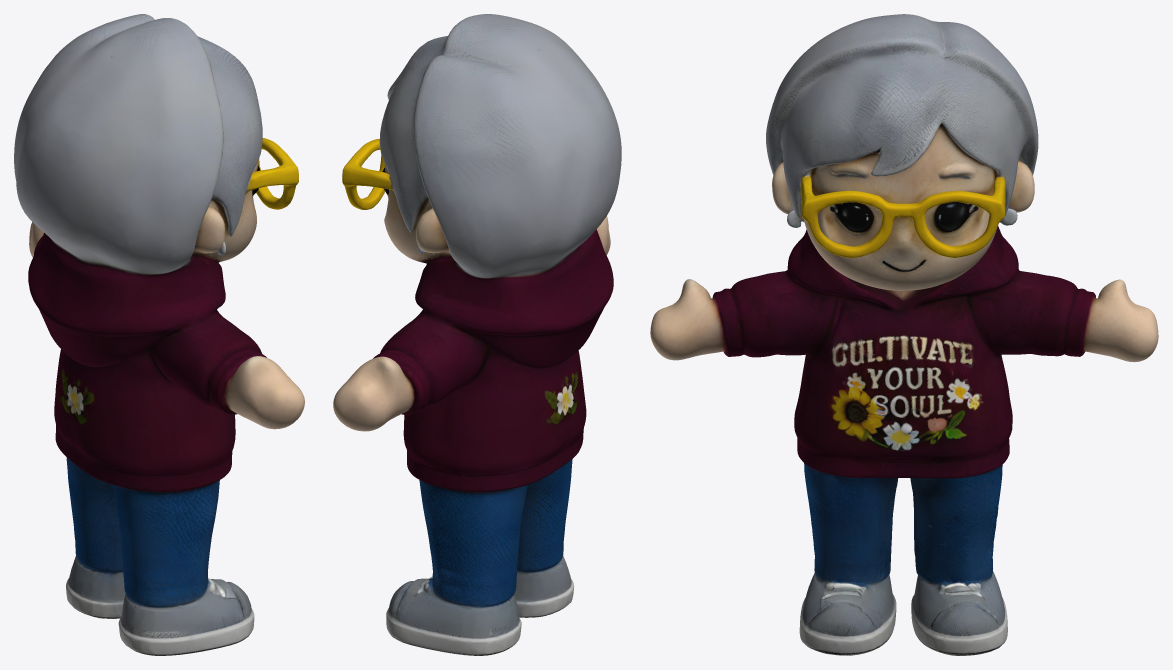
The model's file is connie.glb.
3 views of the same model, side by side, from view 1: azimuth 30°, elevation 25°; view 2: azimuth 150°, elevation 25°; view 3: azimuth 270°, elevation 25° (orthographic). The views are drawn at different scales.
Visible parts, largest first — view 1: tripo_node_18064b86-1ab4-4dc6-84c1-c9d7d3f4ac42; view 2: tripo_node_18064b86-1ab4-4dc6-84c1-c9d7d3f4ac42; view 3: tripo_node_18064b86-1ab4-4dc6-84c1-c9d7d3f4ac42.
Boxes of the visible parts, <box> form: tripo_node_18064b86-1ab4-4dc6-84c1-c9d7d3f4ac42: <box>14,14,304,655</box>; tripo_node_18064b86-1ab4-4dc6-84c1-c9d7d3f4ac42: <box>333,14,621,655</box>; tripo_node_18064b86-1ab4-4dc6-84c1-c9d7d3f4ac42: <box>650,14,1158,655</box>.
Size of the model in its own units: 0.3844 by 0.9999 by 0.7613.
Materials: 1 (1 with a texture image).
